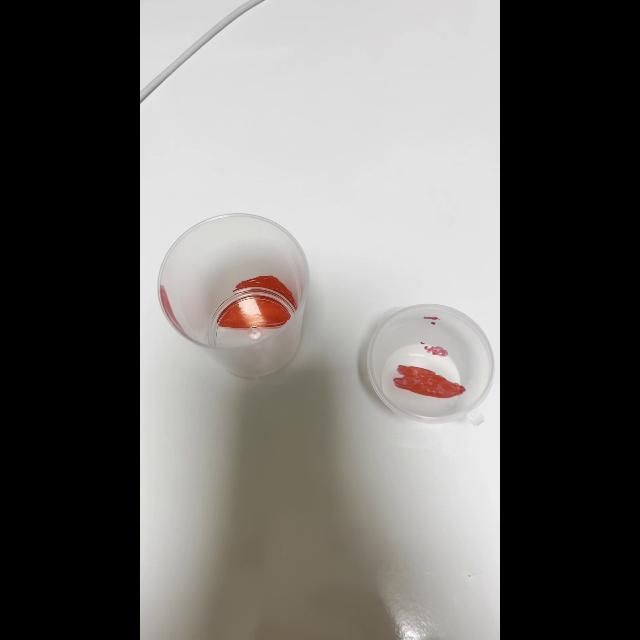dirty: (158, 216, 310, 377), (366, 304, 496, 422)
